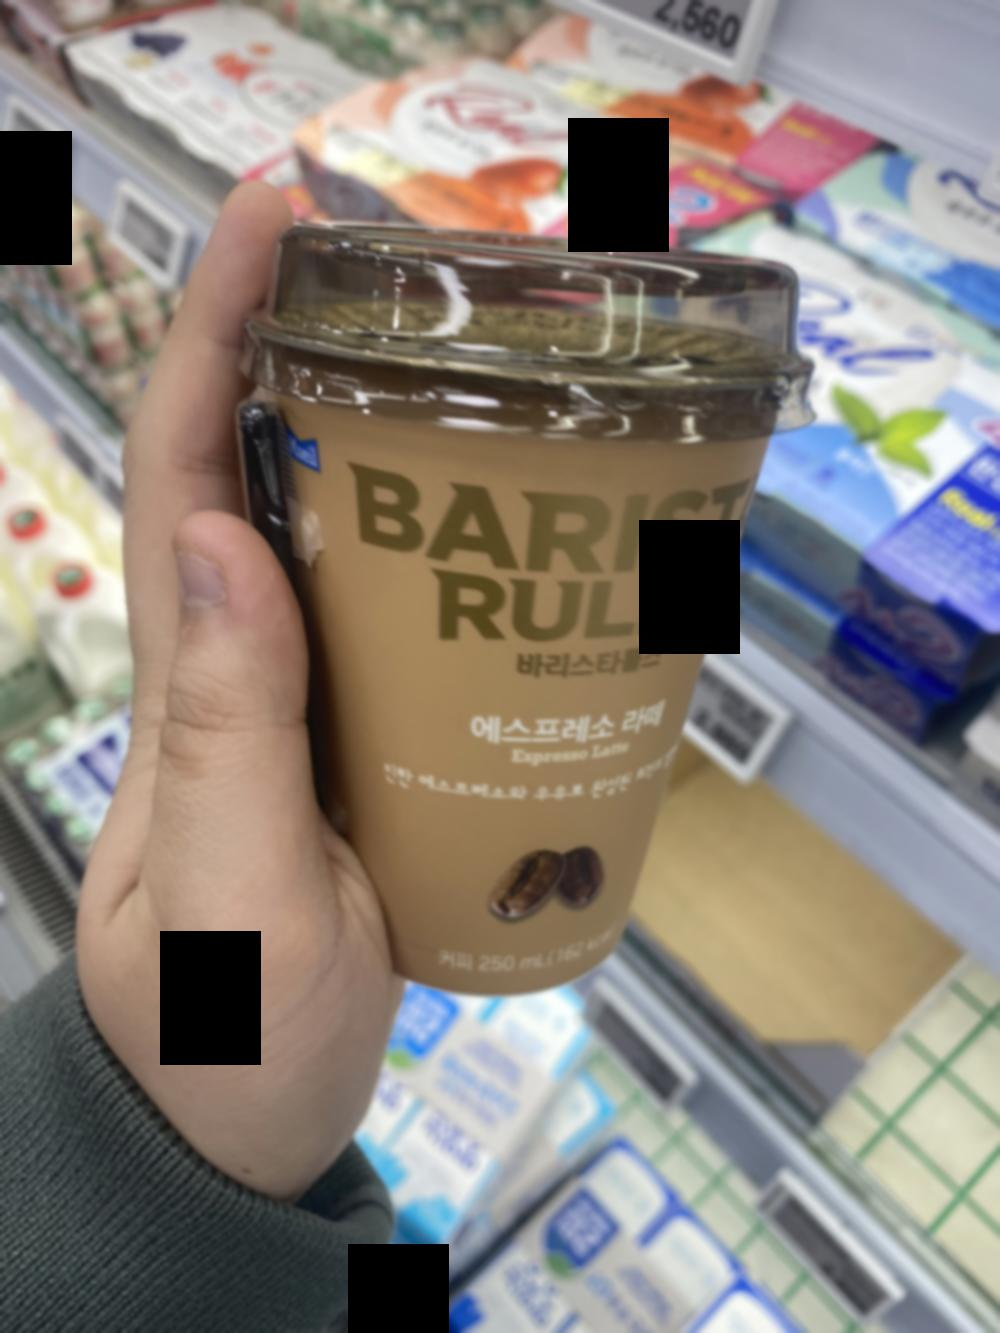baristarules_espressolatte: (255, 248, 787, 1008)
